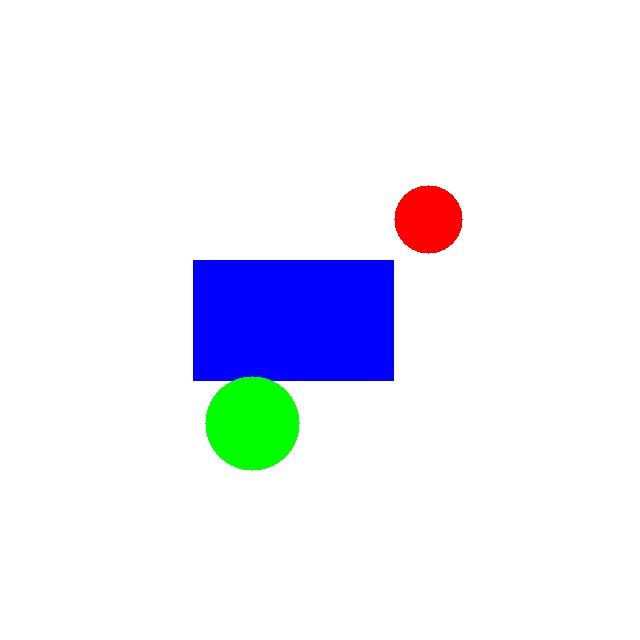cartao: (193, 260, 393, 380)
rosca_externa: (205, 376, 299, 470)
rosca_interna: (394, 185, 462, 253)
